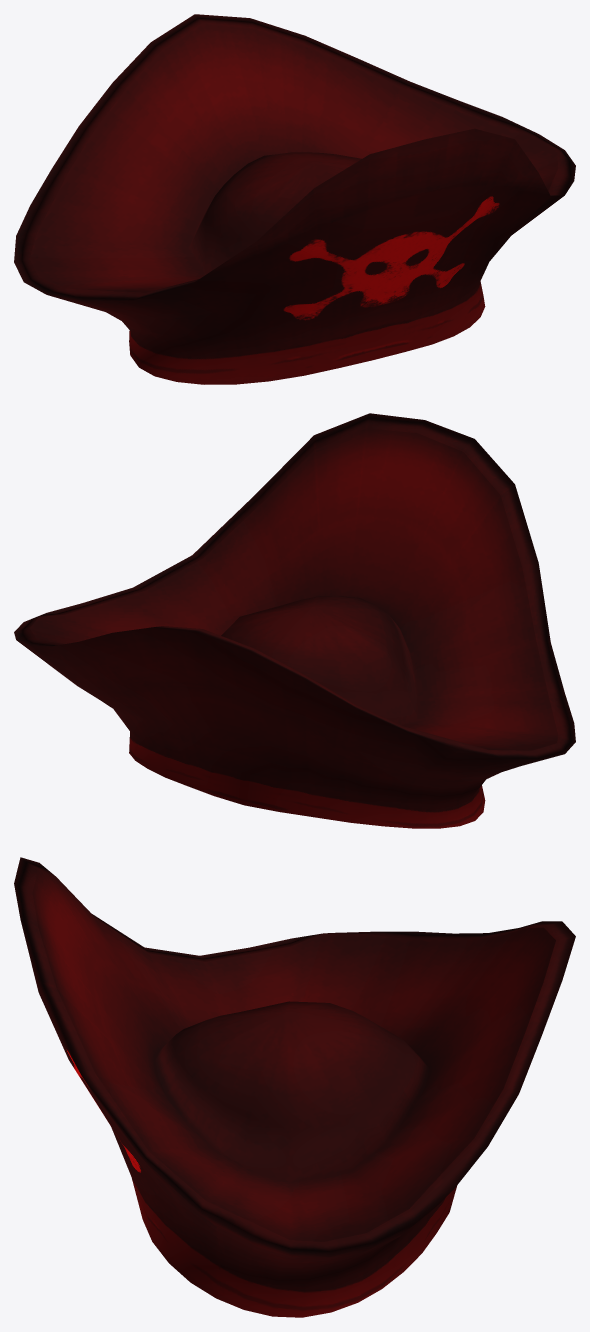
File: SM_Pirate_Hat.glb
The picture shows the model from 3 angles, top to bottom: view 1: azimuth 30°, elevation 25°; view 2: azimuth 150°, elevation 25°; view 3: azimuth 270°, elevation 25°; orthographic projection. The views are drawn at different scales.
Parts seen in each view (by area): view 1: SM_Pirate_Hat; view 2: SM_Pirate_Hat; view 3: SM_Pirate_Hat.
Boxes of the visible parts, x1,y1,x2,y2 form: SM_Pirate_Hat: (14,14,575,384); SM_Pirate_Hat: (14,413,575,828); SM_Pirate_Hat: (14,857,575,1317).
Size of the model in its own units: 1.07 by 0.5186 by 0.7882.
Materials: 1 (1 with a texture image).
